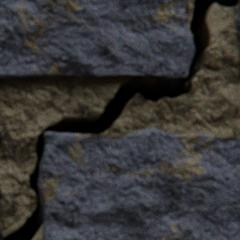brick: (38, 129, 239, 239), (0, 0, 193, 80), (234, 0, 239, 70), (0, 228, 2, 239), (0, 133, 2, 143)
crack: (2, 0, 238, 239)
